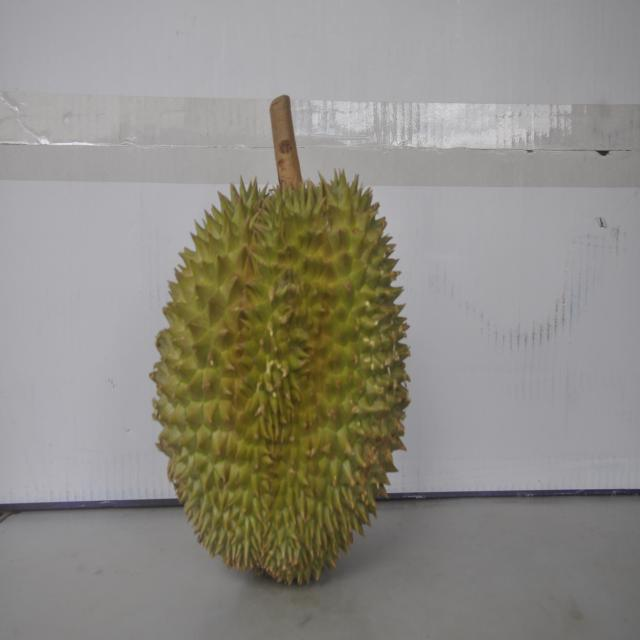mature: (149, 160, 406, 584)
